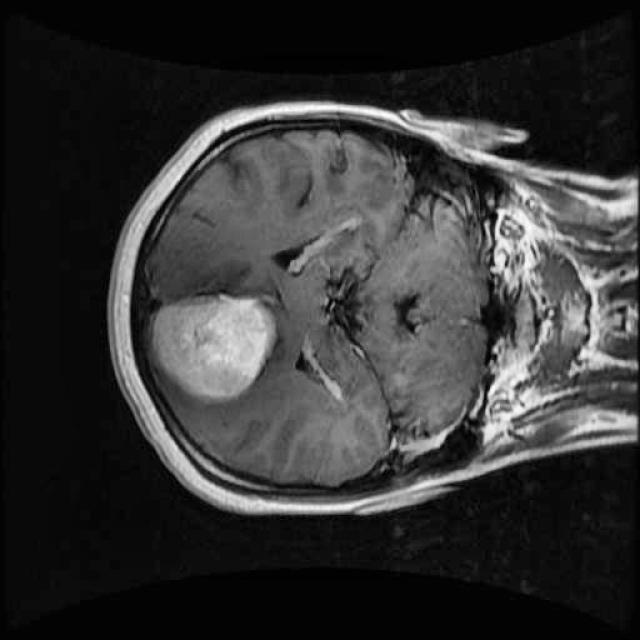Tumor: (140, 275, 286, 411)
